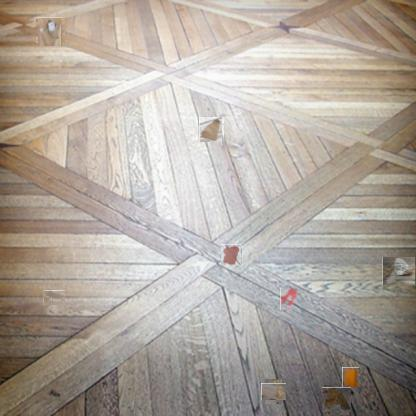dirty: (382, 257, 415, 285), (323, 386, 350, 414), (37, 18, 64, 45), (199, 117, 223, 142), (263, 381, 284, 402), (342, 367, 359, 388), (43, 290, 65, 305)
liquid: (221, 245, 242, 265), (280, 288, 297, 310)
